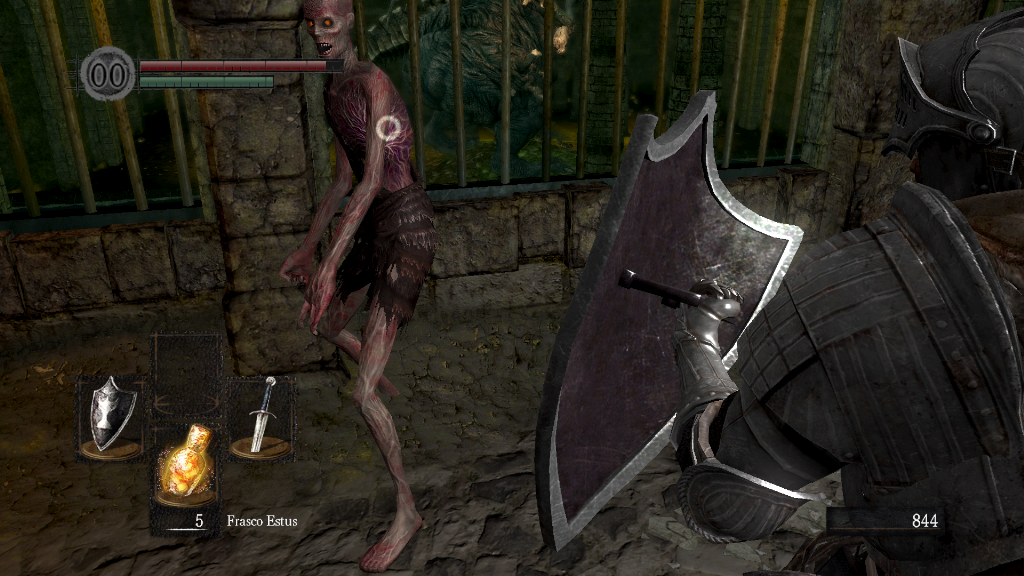health: (138, 58, 343, 71)
hollow: (277, 1, 441, 576)
humanity: (80, 45, 136, 102)
player: (537, 5, 1024, 575)
souls: (825, 506, 945, 536)
stamina: (138, 74, 274, 88)
